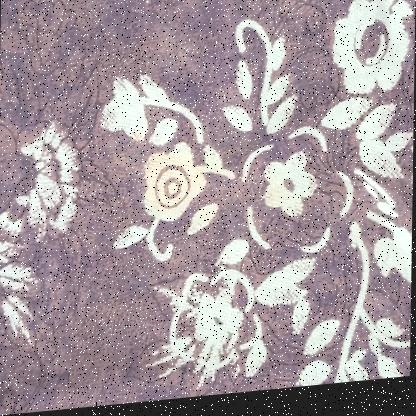spot: (131, 152, 194, 229), (262, 182, 284, 222)
